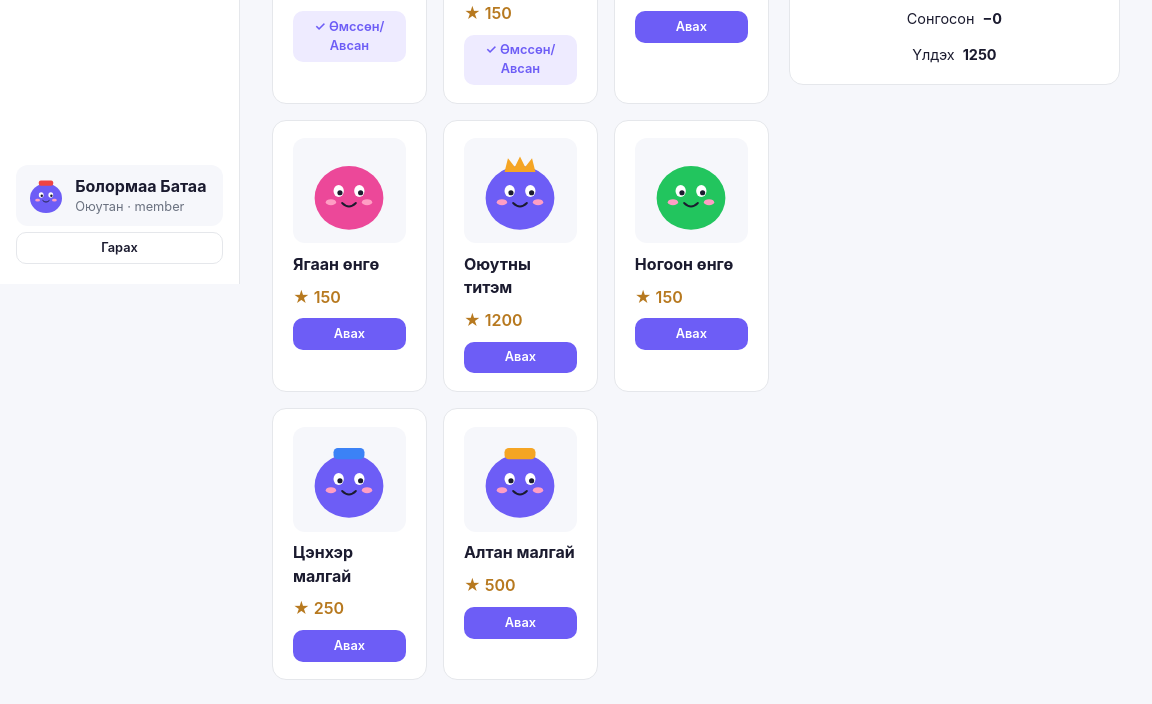
Scenario: shop, profile, admin › оноо хүрэлцвэл худалдан авна, дараа нь хүрэхгүй бол товч идэвхгүй
(page scrolled)
Expected: the button with test id "buy-S03" is enabled, [635,12,748,43]
Step 1. Click the button with test id "buy-S05" → (520, 358), box [464,342,577,373]
(page scrolled)
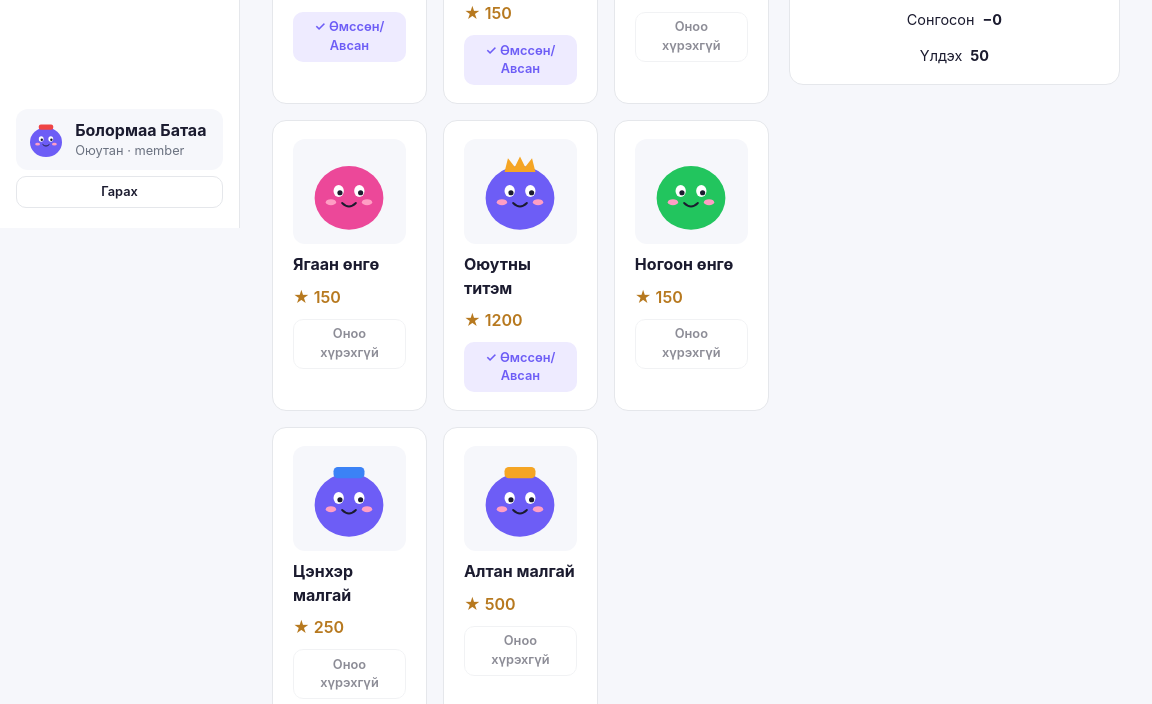
Result: the button with test id "buy-S03" is disabled at [635,12,748,62]
Result: the button with test id "buy-S08" reads "Оноо хүрэхгүй" at [464,626,577,676]
